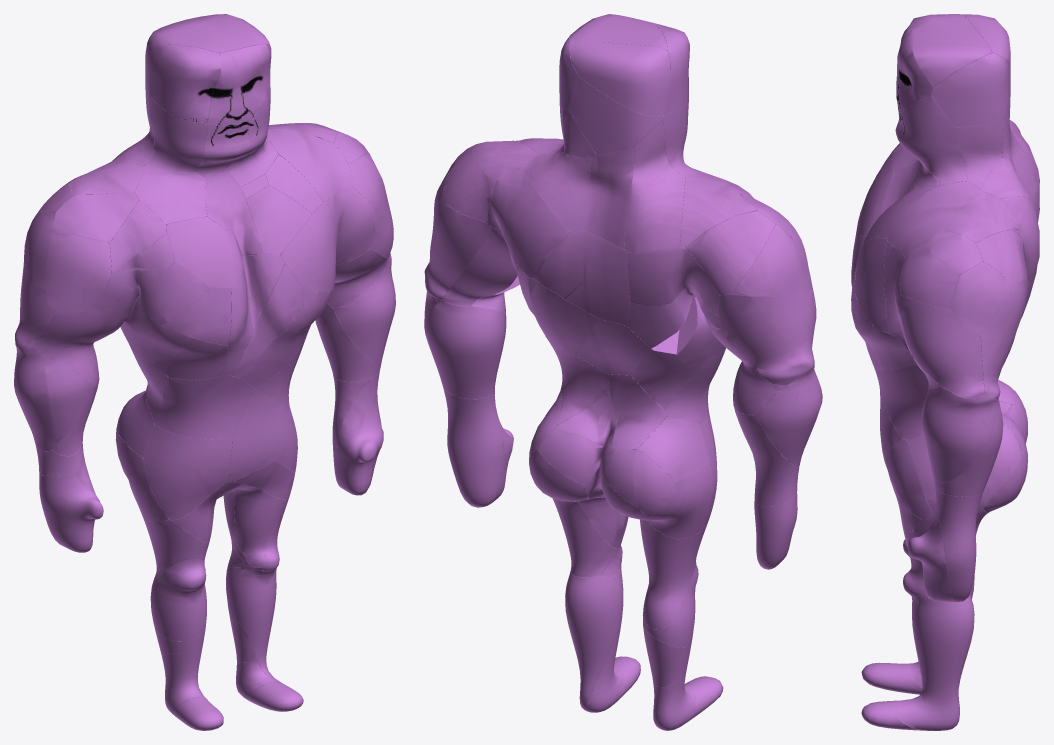
Rendered from Fractured model.fbx.
The picture shows the model from 3 angles, left to right: view 1: azimuth 30°, elevation 25°; view 2: azimuth 150°, elevation 25°; view 3: azimuth 270°, elevation 25°; orthographic projection. The views are drawn at different scales.
Visible parts, largest first — view 1: Cube.001_cell.002, Cube.001_cell.060, Cube.001_cell.001, Cube.001_cell.069, Cube.001_cell.062, Cube.001_cell.044, Cube.001_cell.055, Cube.001_cell.103, Cube.001_cell.073, Cube.001_cell.009, Cube.001_cell.082, Cube.001_cell.010 (+57 smaller); view 2: Cube.001_cell.016, Cube.001_cell.104, Cube.001_cell.048, Cube.001_cell.098, Cube.001_cell.088, Cube.001_cell.064, Cube.001_cell.086, Cube.001_cell.010, Cube.001_cell.102, Cube.001_cell.029, Cube.001_cell.036, Cube.001_cell.090 (+43 smaller); view 3: Cube.001_cell.010, Cube.001_cell.079, Cube.001_cell.026, Cube.001_cell.072, Cube.001_cell.068, Cube.001_cell.024, Cube.001_cell.064, Cube.001_cell.092, Cube.001_cell.066, Cube.001_cell.008, Cube.001_cell.096, Cube.001_cell.012 (+32 smaller).
Boxes of the visible parts, box(x1,y1,x2,y2) form: Cube.001_cell.002: box(143, 425, 232, 520); Cube.001_cell.060: box(154, 374, 254, 438); Cube.001_cell.001: box(149, 44, 220, 122); Cube.001_cell.069: box(45, 233, 111, 315); Cube.001_cell.062: box(207, 43, 271, 126); Cube.001_cell.044: box(190, 481, 287, 567); Cube.001_cell.055: box(166, 217, 244, 288); Cube.001_cell.103: box(150, 558, 206, 641); Cube.001_cell.073: box(39, 475, 103, 552); Cube.001_cell.009: box(337, 382, 383, 495); Cube.001_cell.082: box(227, 389, 288, 482); Cube.001_cell.010: box(226, 554, 283, 684); Cube.001_cell.016: box(718, 289, 816, 385); Cube.001_cell.104: box(424, 302, 506, 399); Cube.001_cell.048: box(533, 229, 630, 325); Cube.001_cell.098: box(624, 121, 685, 252); Cube.001_cell.088: box(569, 42, 670, 116); Cube.001_cell.064: box(443, 387, 503, 507); Cube.001_cell.086: box(487, 164, 570, 278); Cube.001_cell.010: box(565, 565, 623, 709); Cube.001_cell.102: box(640, 520, 707, 629); Cube.001_cell.029: box(685, 210, 775, 295); Cube.001_cell.036: box(627, 245, 719, 315); Cube.001_cell.090: box(568, 77, 664, 155); Cube.001_cell.010: box(899, 593, 974, 730); Cube.001_cell.079: box(899, 295, 984, 398); Cube.001_cell.026: box(922, 387, 997, 482); Cube.001_cell.072: box(931, 53, 1009, 127); Cube.001_cell.068: box(898, 95, 967, 186); Cube.001_cell.024: box(913, 14, 992, 86); Cube.001_cell.064: box(935, 489, 983, 602); Cube.001_cell.092: box(887, 181, 983, 266); Cube.001_cell.066: box(950, 261, 1012, 334); Cube.001_cell.008: box(980, 275, 1027, 399); Cube.001_cell.096: box(876, 364, 928, 440); Cube.001_cell.012: box(900, 246, 959, 309).
Bounding box in the file's own units: 563 × 958 × 241.
